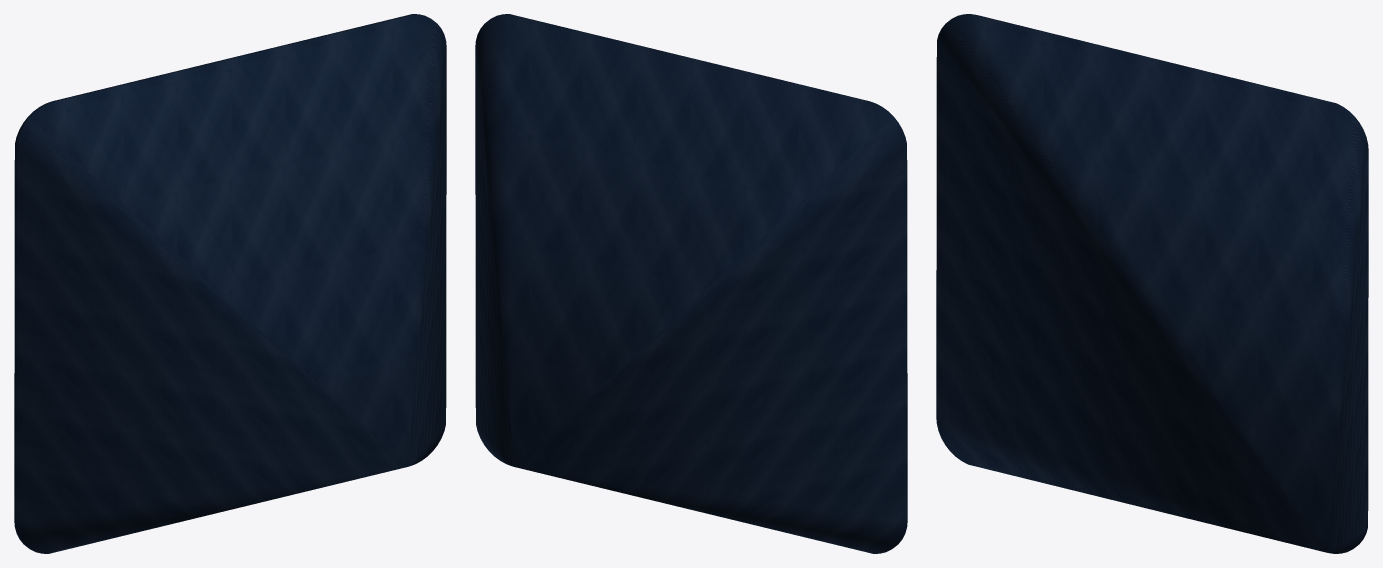
The model's file is ARCH_FLOOR_CARPET_TILE_001.glb.
The picture shows the model from 3 angles, left to right: view 1: azimuth 30°, elevation 25°; view 2: azimuth 150°, elevation 25°; view 3: azimuth 330°, elevation 25°; orthographic projection.
Visible parts, largest first — view 1: rug_000; view 2: rug_000; view 3: rug_000.
Part boxes in pixels (left/top/right/bottom): rug_000: left=14, top=14, right=446, bottom=553; rug_000: left=475, top=14, right=907, bottom=553; rug_000: left=936, top=14, right=1368, bottom=553.
Bounding box in the file's own units: 2 × 2 × 0.018.
Materials: 2 (2 with a texture image).
